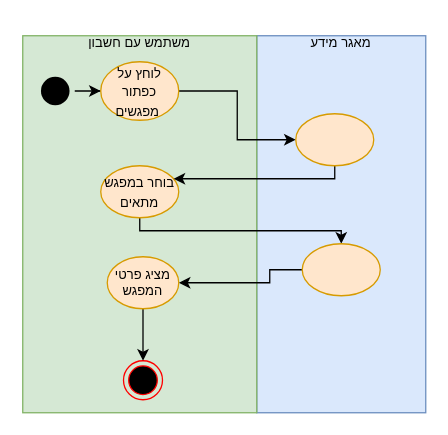
This 448x435 diagram has some shape labels left out. The centre of each missing label's shape, as x and y in pixels:
דוח מפגש: the point at 340,269
דוח מפגשים: the point at 334,139
